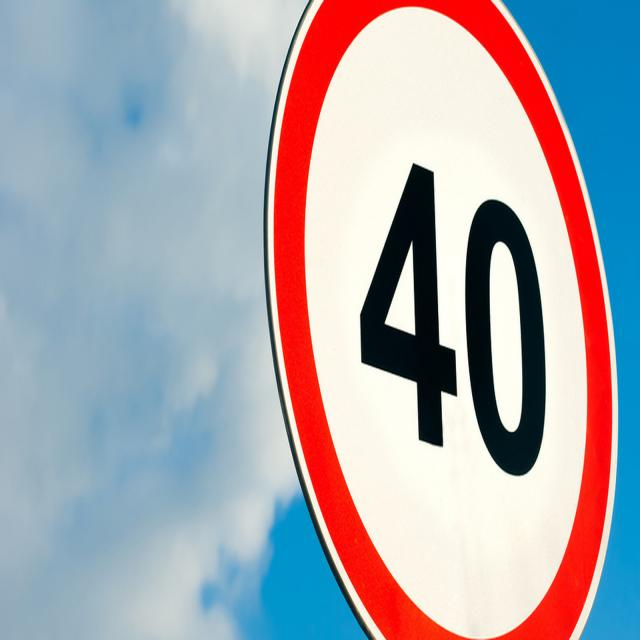speed limit 40: (264, 0, 623, 640)
